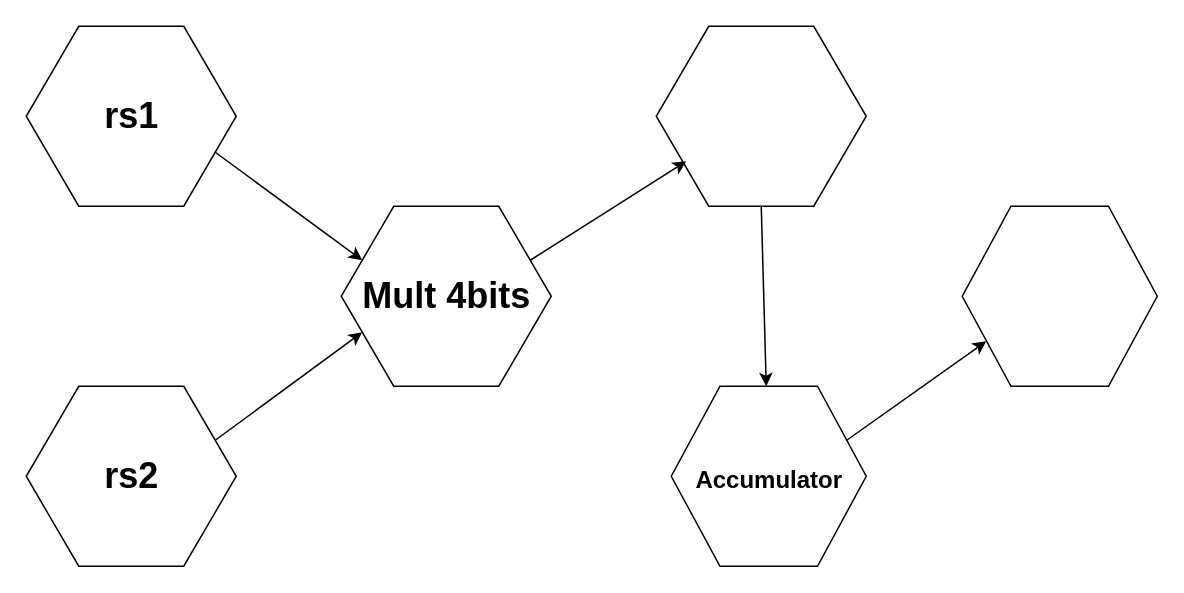
This 1184x593 diagram has some shape labels left out. The shapes that lost their labels are listed below. From the top down, each one's centre as x and y in pixels, then its label:
At point 760,115: "Shift N".
At point 1059,295: "rd".
